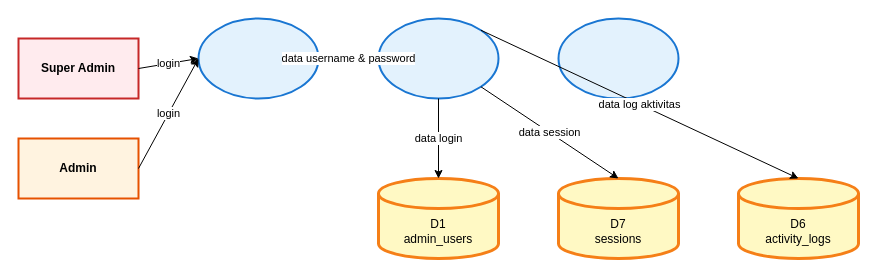
Image size: 877x277. Some labels were removed from this diagram. Each missing label, with the centre of its shape:
P1.1 Masukkan Username & Password: pixel 258 58
P1.2 Verifikasi User: pixel 438 58
P1.3 Logout: pixel 618 58
